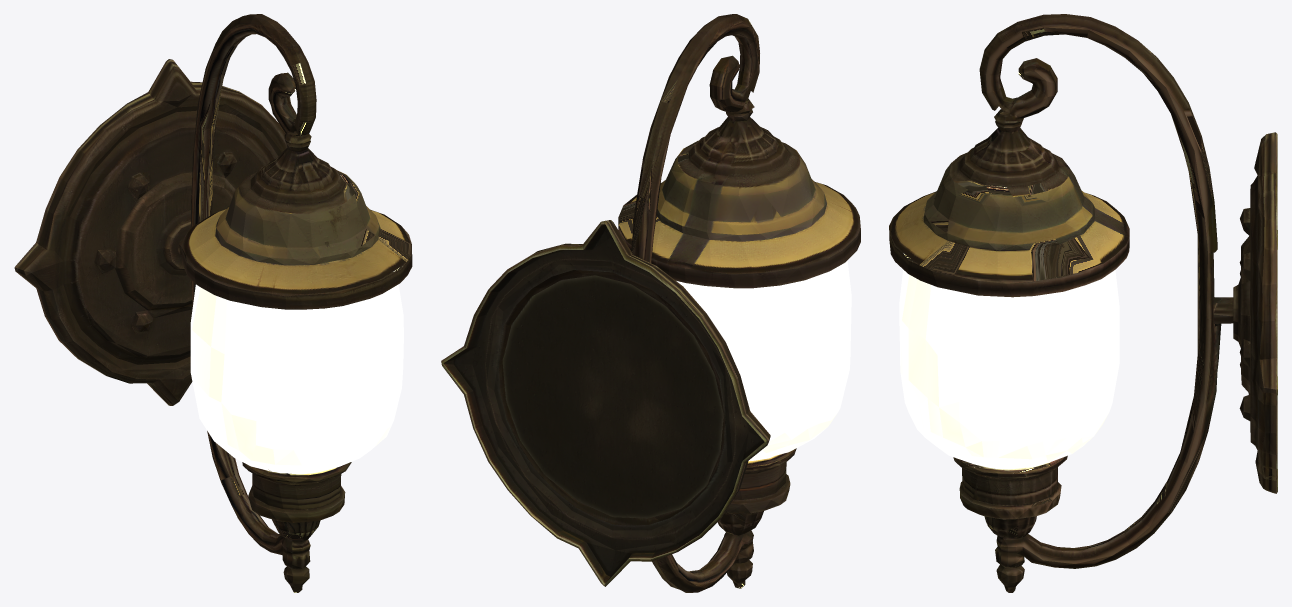
Rendered from Lamp_Wall.glb.
3 renders of one model, left to right at view 1: azimuth 30°, elevation 25°; view 2: azimuth 150°, elevation 25°; view 3: azimuth 270°, elevation 25°, orthographic. The views are drawn at different scales.
Visible parts, largest first — view 1: Lamp_Wall_M; view 2: Lamp_Wall_M; view 3: Lamp_Wall_M.
Boxes of the visible parts, x1,y1,x2,y2 form: Lamp_Wall_M: (14,14,412,592); Lamp_Wall_M: (441,14,860,592); Lamp_Wall_M: (889,14,1277,592).
Size of the model in its own units: 0.1676 by 0.2858 by 0.1745.
2 materials, 1 textured.
